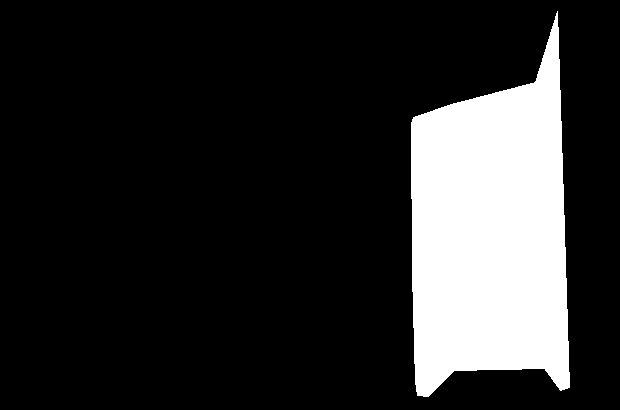type3s: (407, 10, 573, 398)
